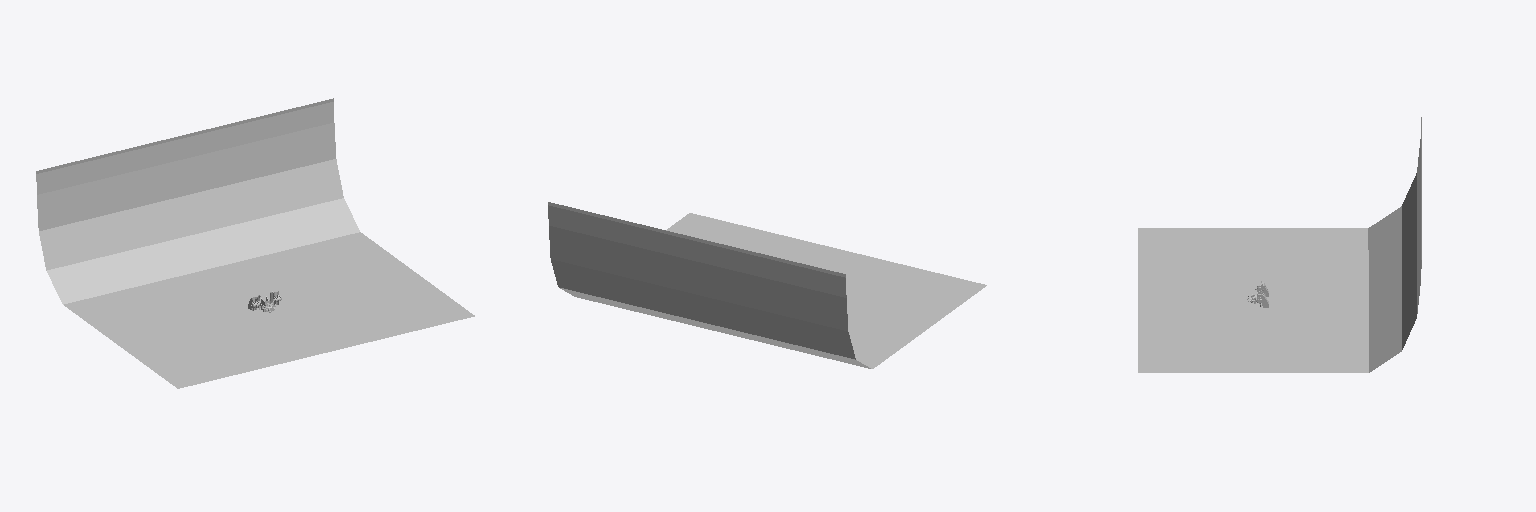
File: RZ-0 body.obj
3 renders of one model, left to right at view 1: azimuth 30°, elevation 25°; view 2: azimuth 150°, elevation 25°; view 3: azimuth 270°, elevation 25°, orthographic.
Parts seen in each view (by area): view 1: Plane.000_Plane.023; view 2: Plane.000_Plane.023; view 3: Plane.000_Plane.023.
Part boxes in pixels (left/top/right/bottom): Plane.000_Plane.023: left=36, top=98, right=474, bottom=388; Plane.000_Plane.023: left=548, top=202, right=986, bottom=368; Plane.000_Plane.023: left=1138, top=117, right=1421, bottom=372.
Size of the model in its own units: 18.67 by 8.34 by 15.39.